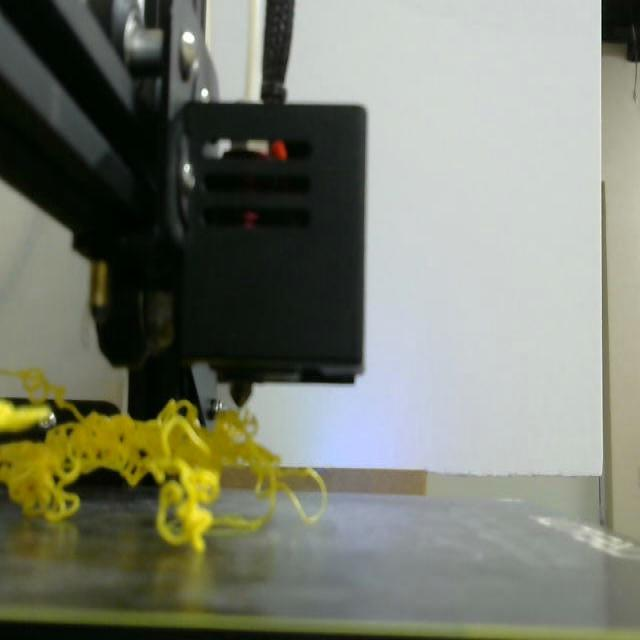spaghetti: (0, 368, 328, 552)
